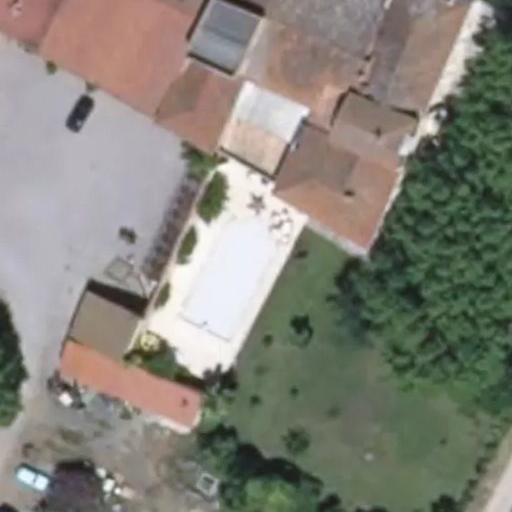pool: (228, 235, 288, 237)
